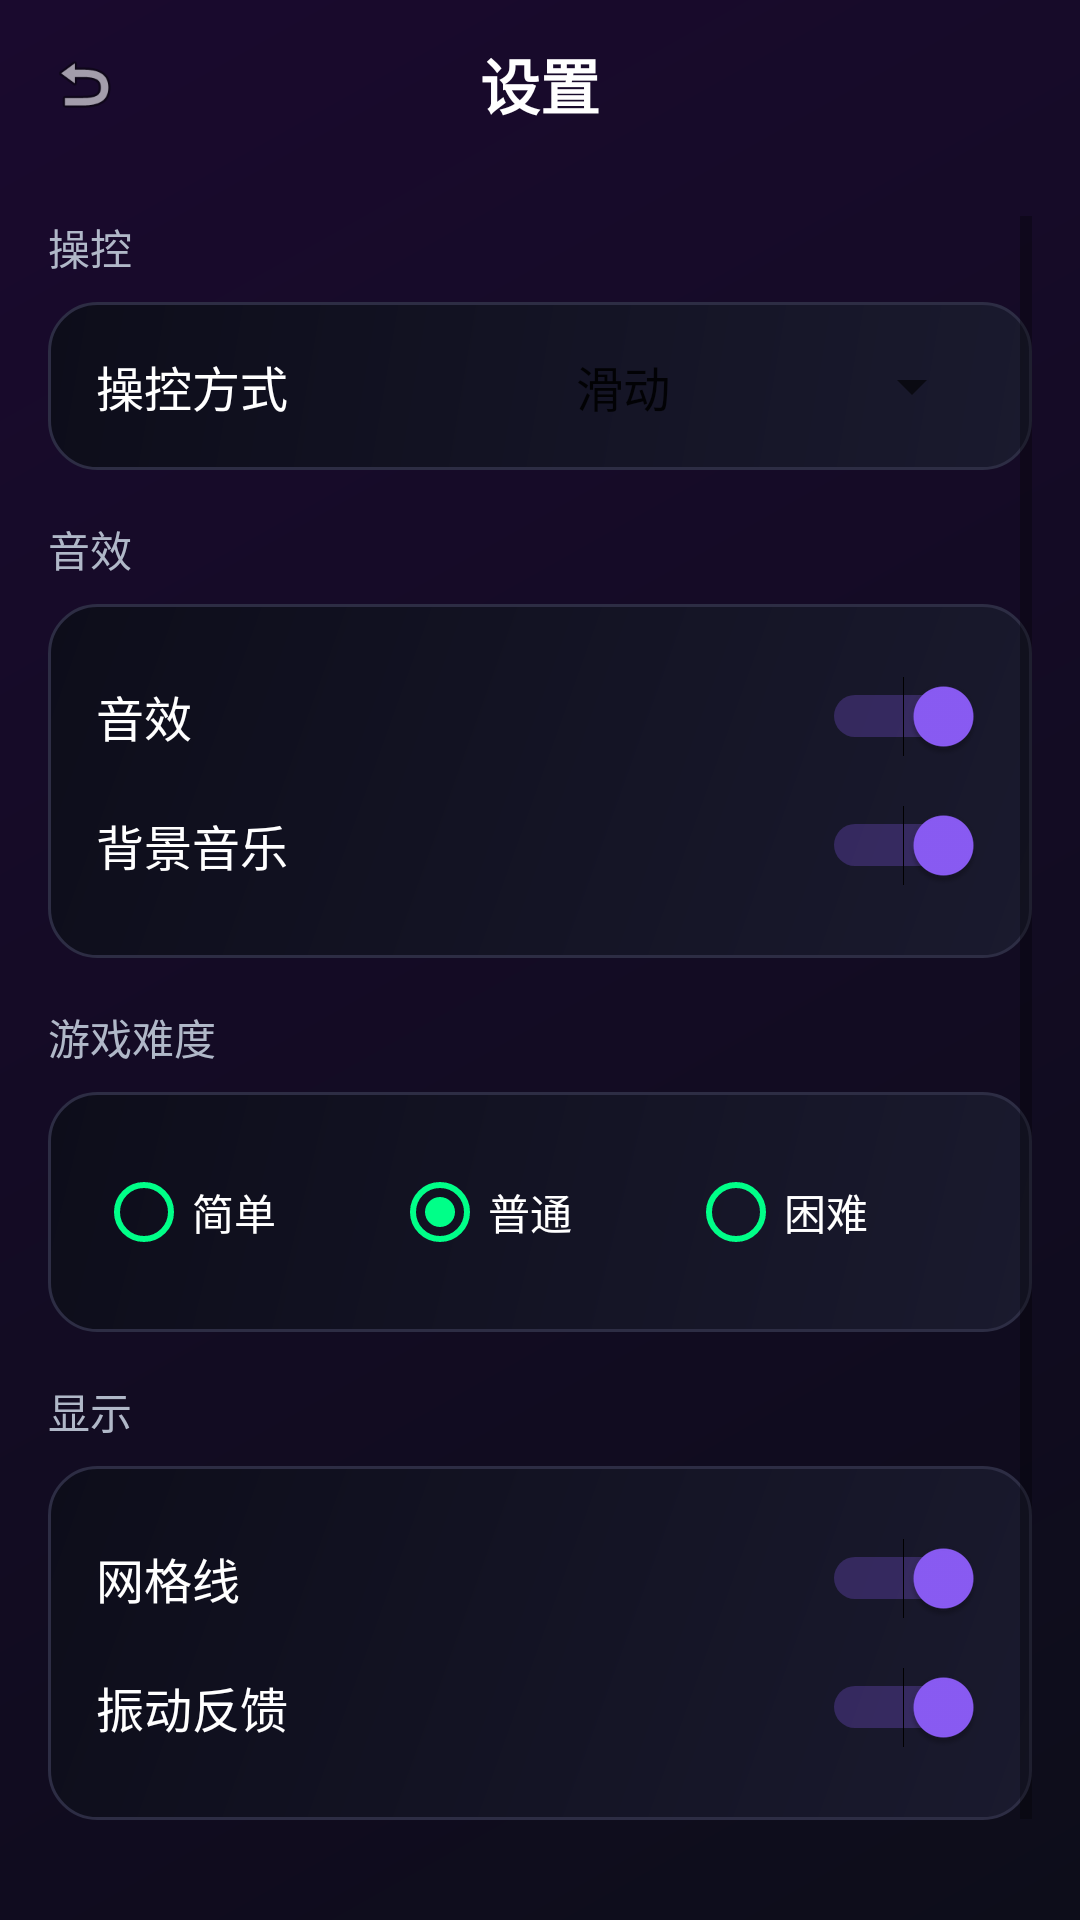

Icons on this 1080w x 1920h Android screen, each with its box as bbox=[x1, y1, x2, y2]:
返回: bbox=[61, 63, 109, 106]
